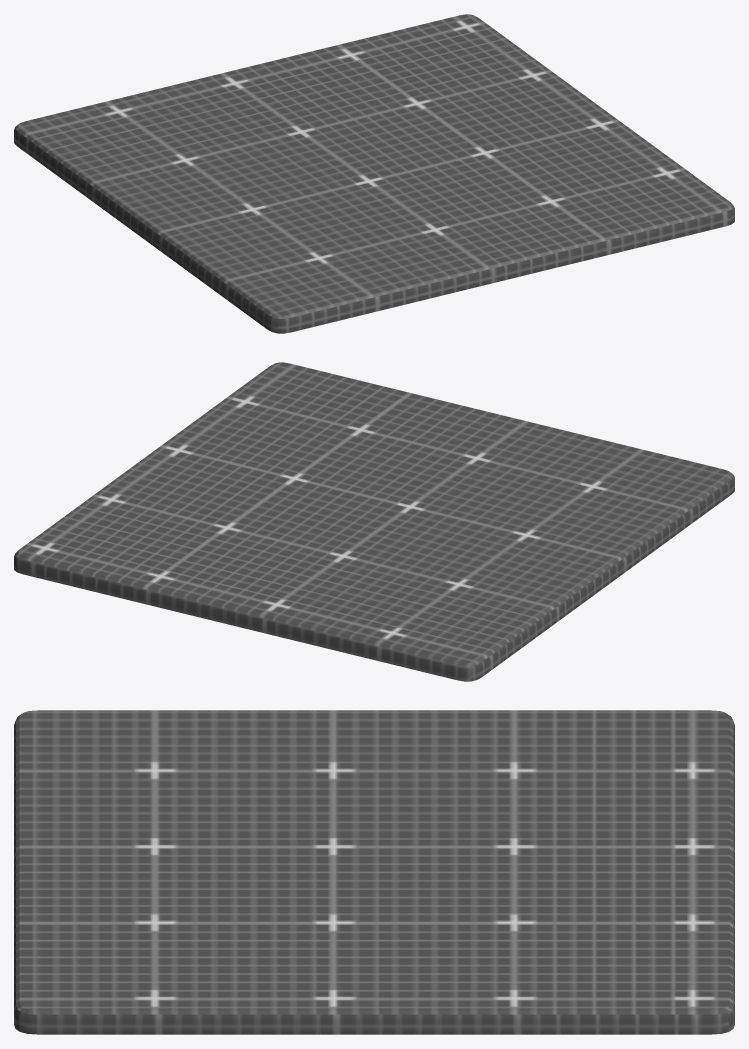
File: BaseThin_MESH.fbx
3 views of the same model, one above another, from view 1: azimuth 30°, elevation 25°; view 2: azimuth 150°, elevation 25°; view 3: azimuth 270°, elevation 25° (orthographic). The views are drawn at different scales.
Parts seen in each view (by area): view 1: BaseThin; view 2: BaseThin; view 3: BaseThin.
Boxes of the visible parts, x1,y1,x2,y2 form: BaseThin: (14,14,734,333); BaseThin: (14,362,734,681); BaseThin: (14,710,734,1034).
Bounding box in the file's own units: 300 × 10 × 300.
1 material, 1 textured.
